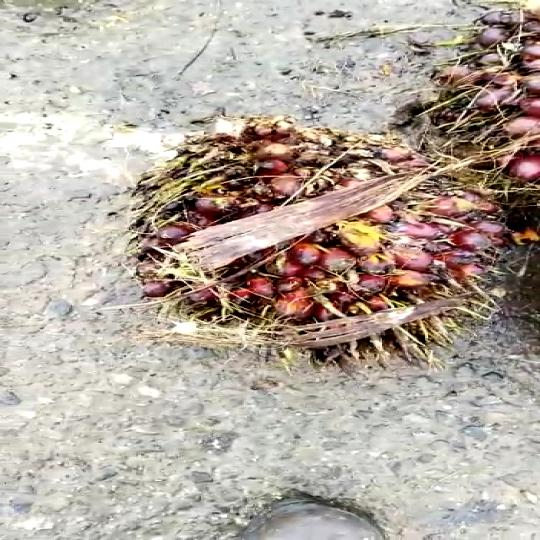masak: (114, 115, 540, 382)
